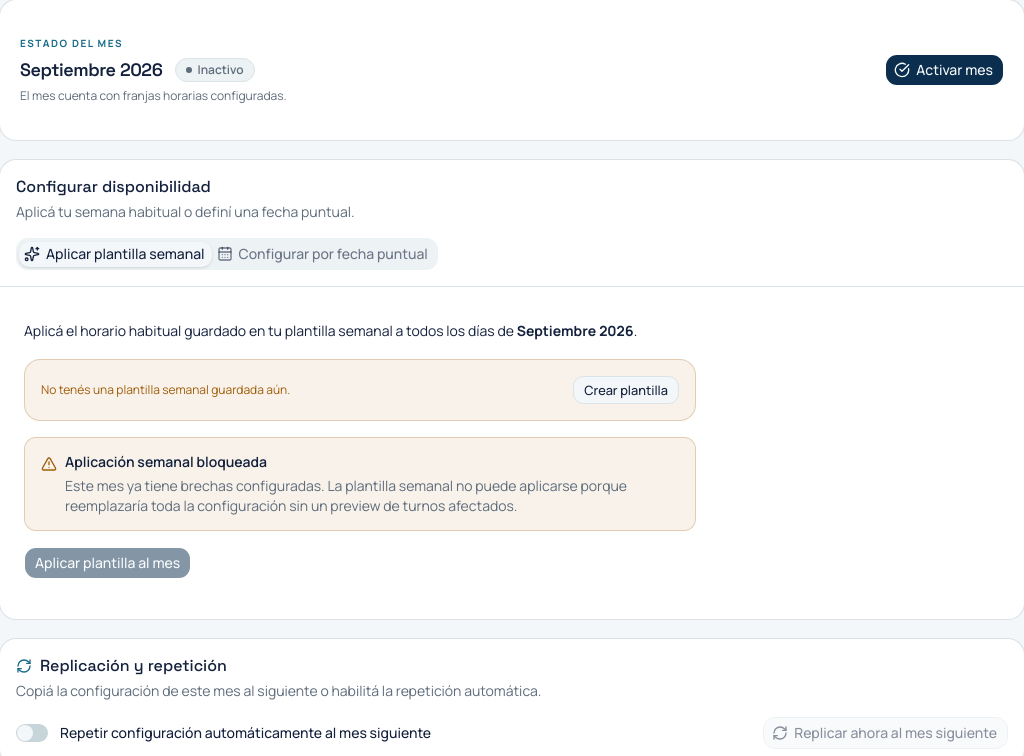
MonthConfigurator Component › uses the real last day of the month and blocks overwriting a configured date
This screenshot has width=1024, height=756.
Click the tab "Configurar por fecha puntual": {"x": 323, "y": 254} [212,242,435,267]
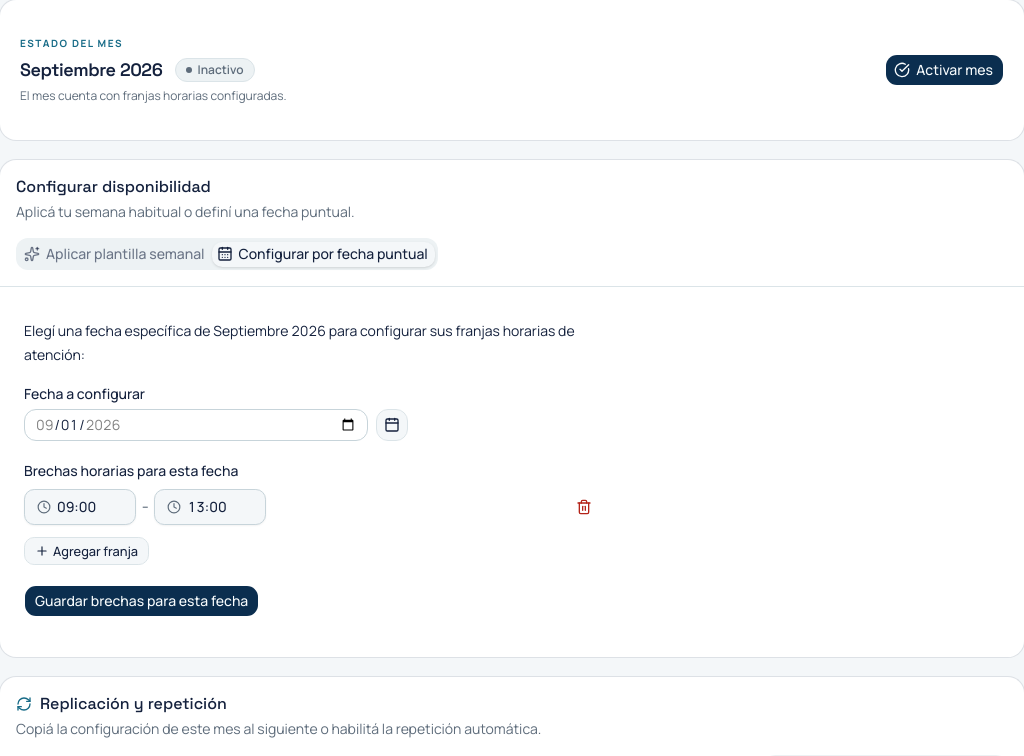
In the date field labelled "Fecha a configurar": {"x": 196, "y": 425} [24,409,368,441], type "2026-09-15"
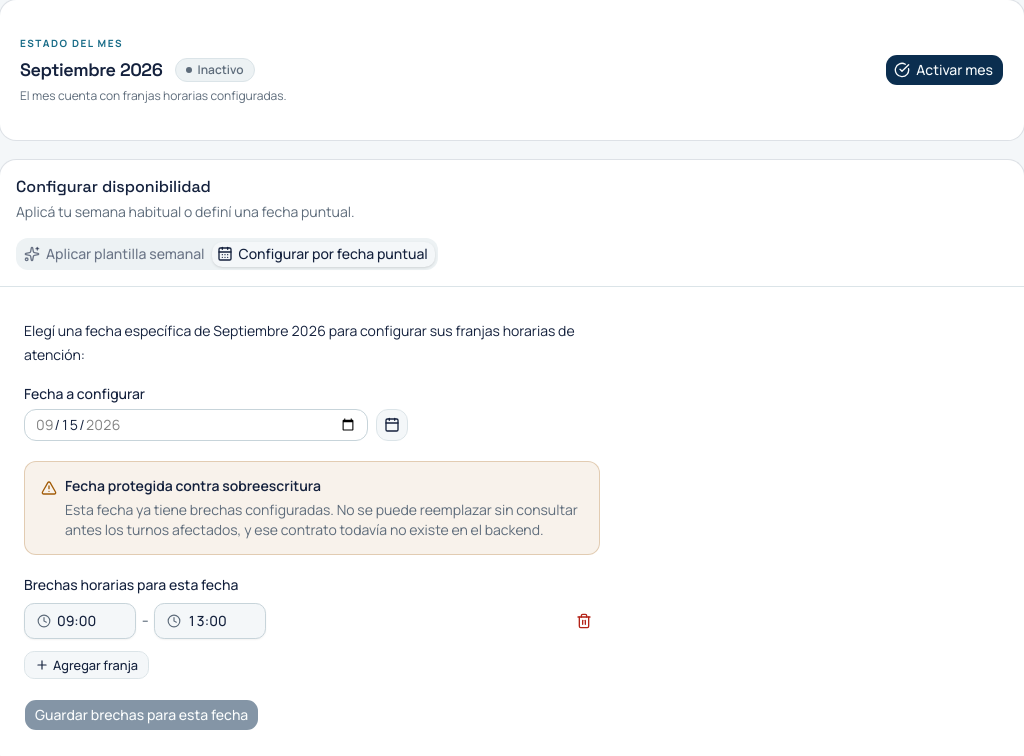
expect the text "Fecha protegida contra sobreescritura" is shown: met, box [65,476,321,495]
expect the button "Guardar brechas para esta fecha" is disabled: met, box [24,699,259,731]
